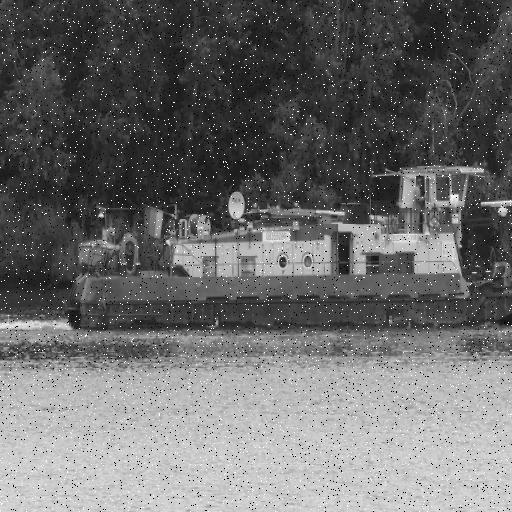tugboat: (64, 155, 512, 348)
